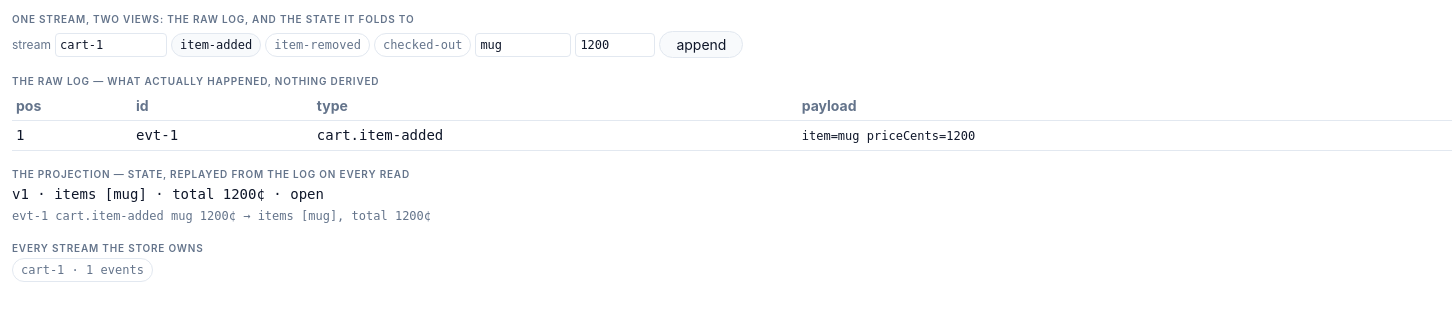
EventStoreDemo › appends a fact and paints both views: the raw log and the folded projection
Check: the table with test id "eventstore-log" is shown, box x1=12 y1=91 x2=1451 y2=151
Click the button with test id "eventstore-append".
click(701, 44)  # box x1=659 y1=31 x2=743 y2=58
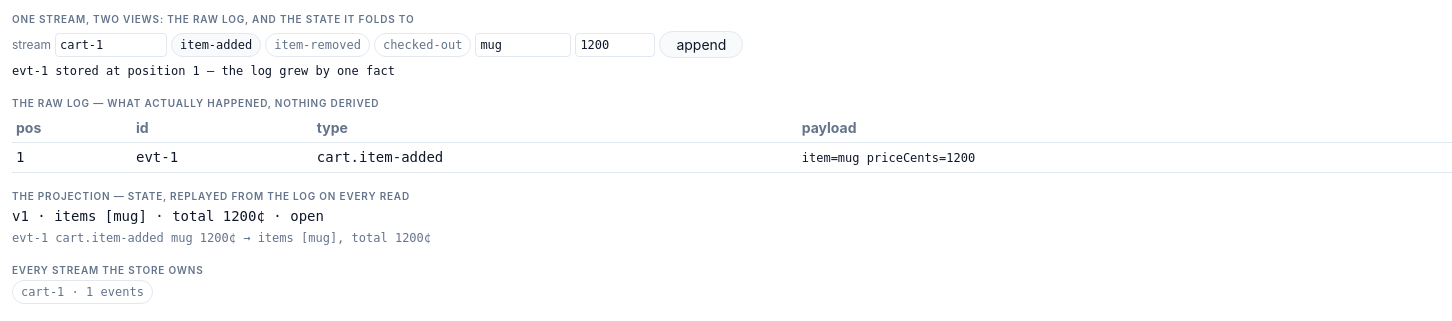
Check: the number of rows with test id "eventstore-event-row" is 1, box x1=12 y1=142 x2=1451 y2=172
Check: the text with test id "eventstore-flash" shows "evt-1 stored at position 1", box x1=12 y1=64 x2=395 y2=78
